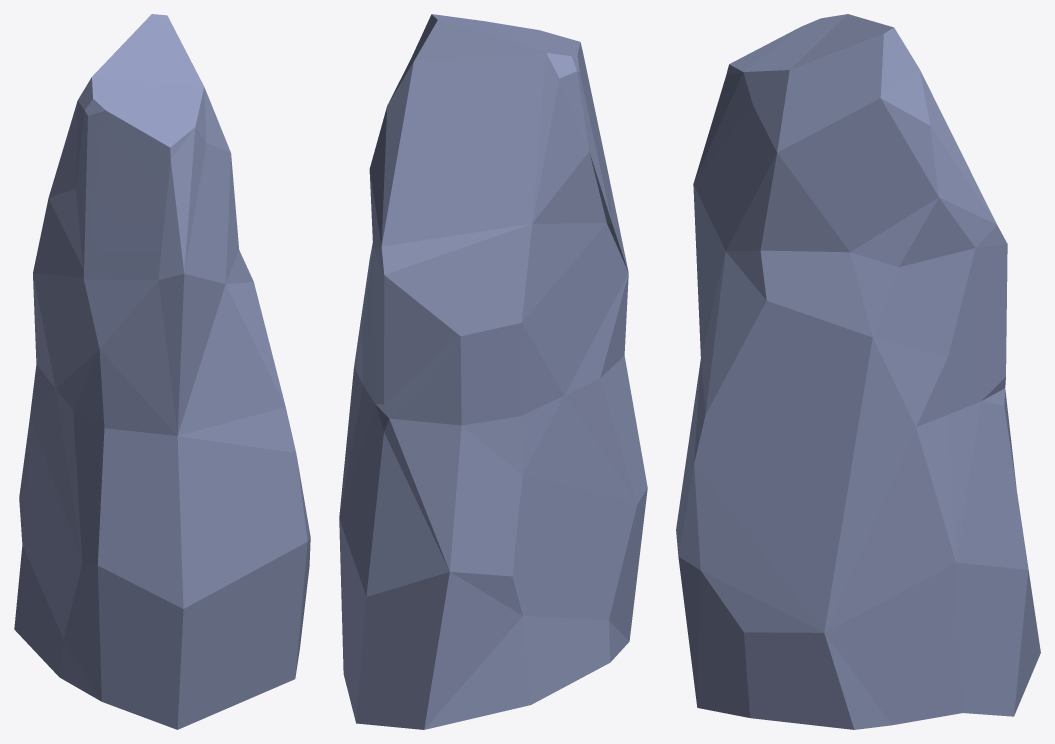
File: Rock_30.fbx
3 views of the same model, side by side, from view 1: azimuth 30°, elevation 25°; view 2: azimuth 150°, elevation 25°; view 3: azimuth 270°, elevation 25° (orthographic). The views are drawn at different scales.
Parts seen in each view (by area): view 1: Rock_30; view 2: Rock_30; view 3: Rock_30.
Part boxes in pixels (left/top/right/bottom): Rock_30: left=14, top=14, right=310, bottom=729; Rock_30: left=339, top=14, right=647, bottom=729; Rock_30: left=676, top=14, right=1040, bottom=729.
Size of the model in its own units: 2.77 by 7.03 by 3.42.
